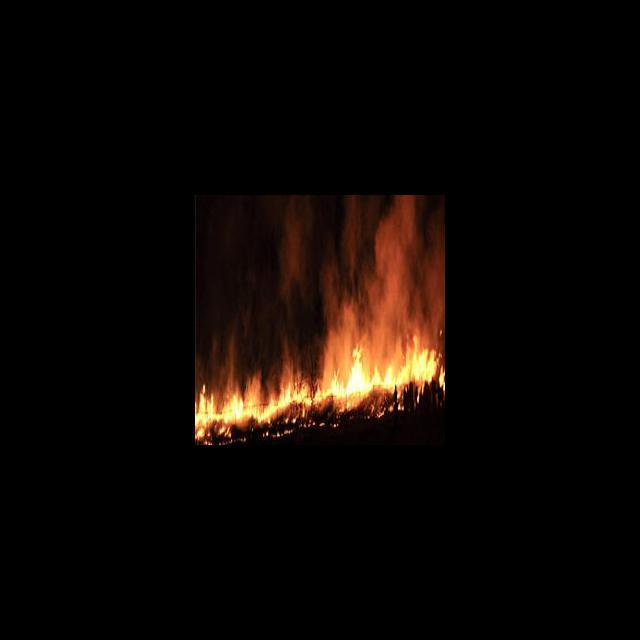Fire: (195, 330, 445, 439)
